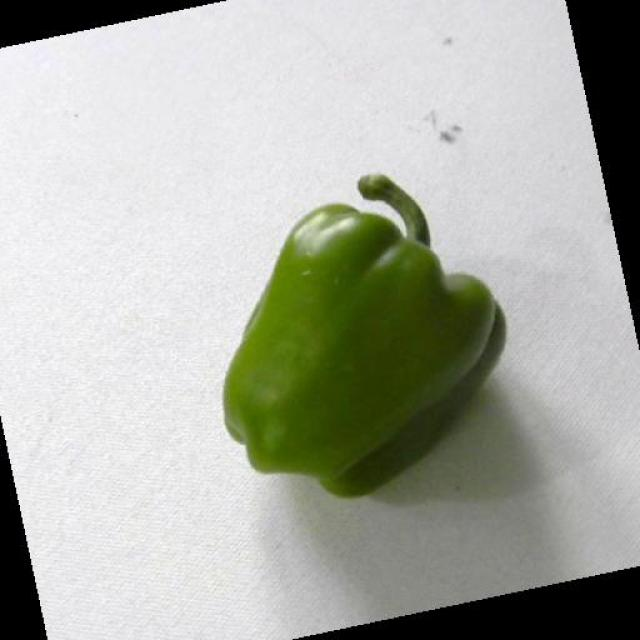Fresh_tomato: (216, 156, 492, 518)
